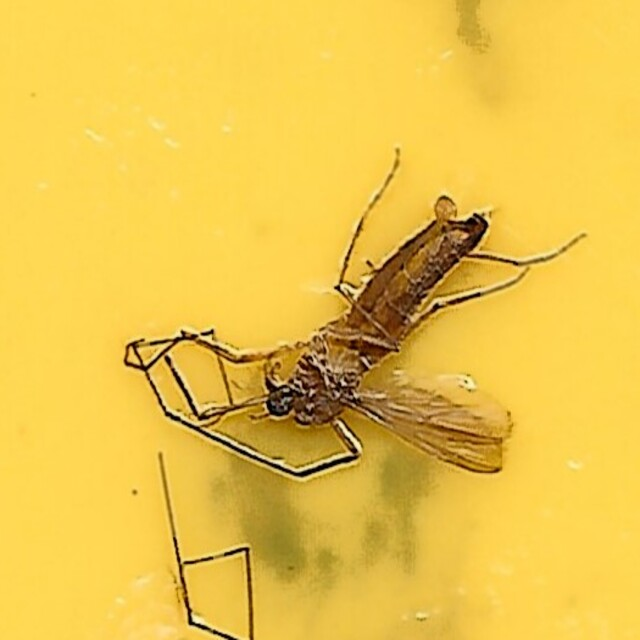Nematocera: (122, 149, 518, 491)
